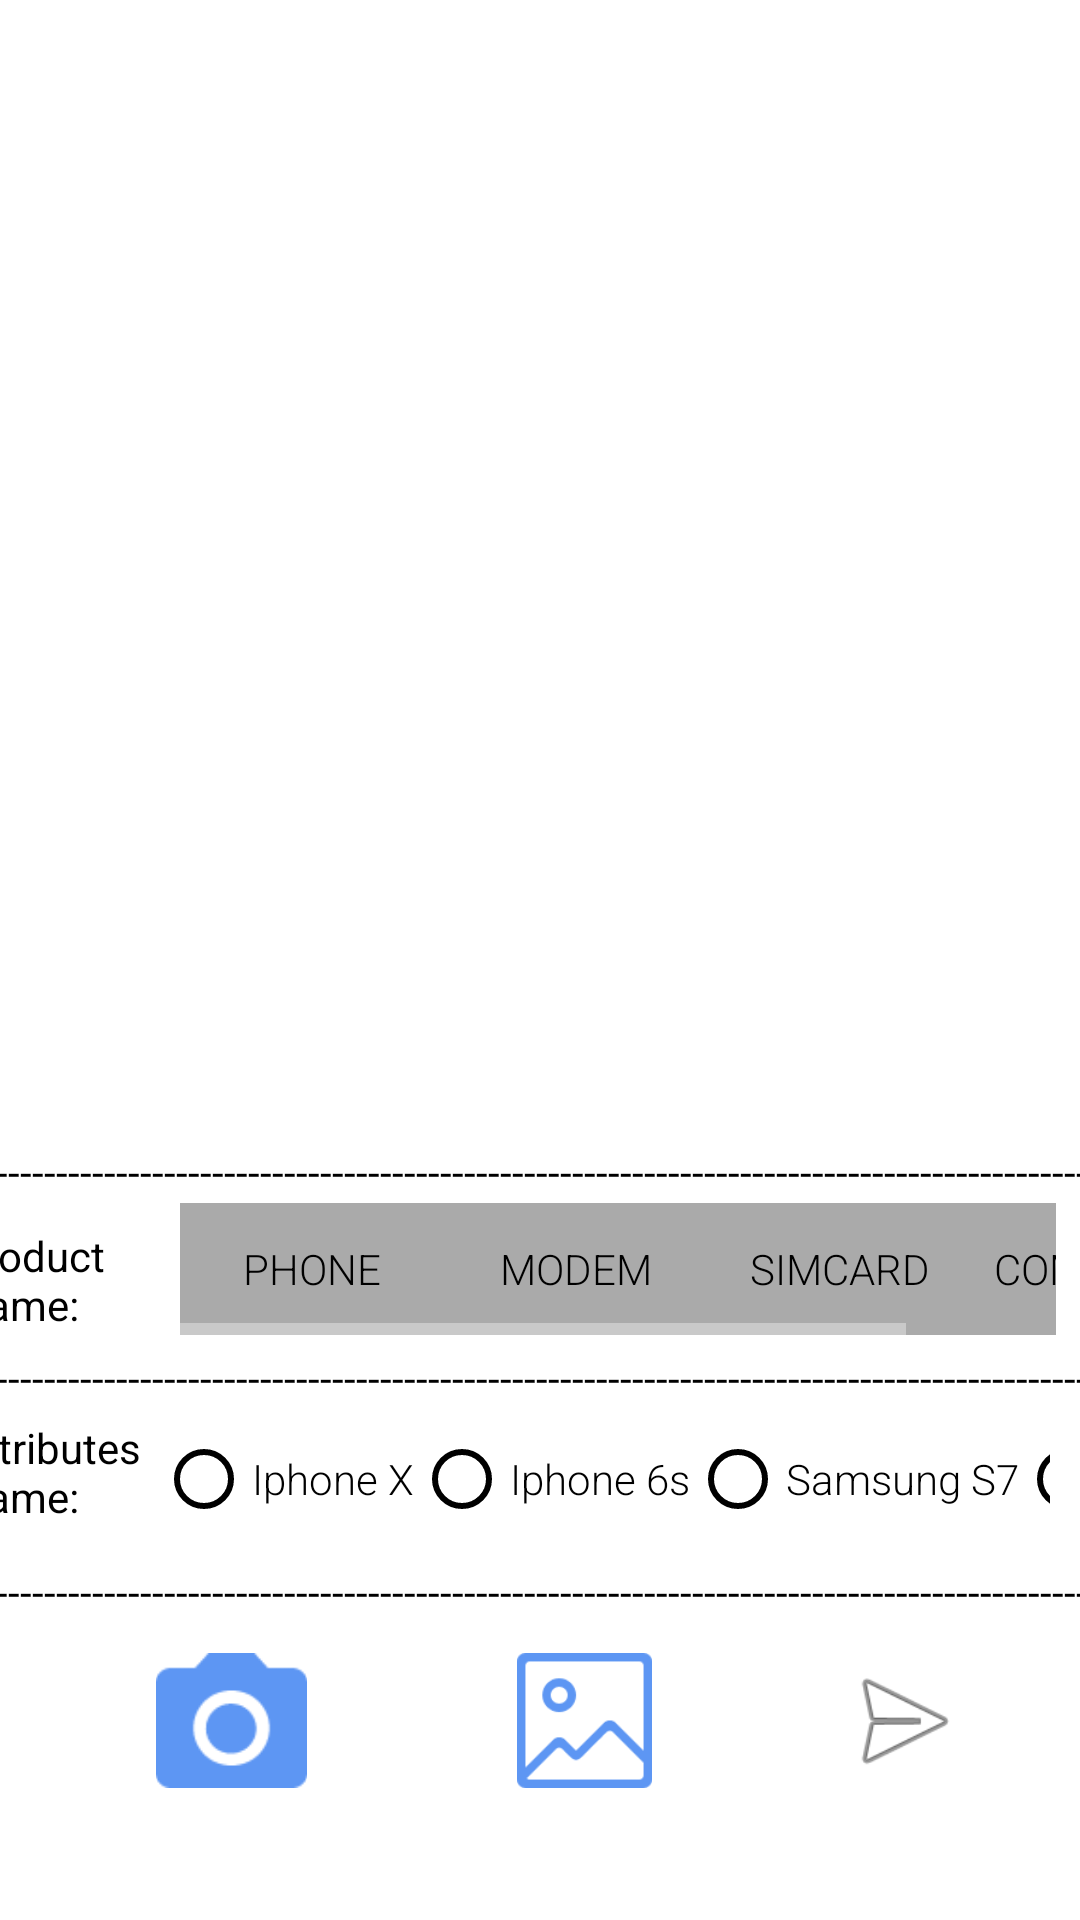

Icons on this 1080w x 1920h Android screen, each with its box as detection(x1, y1, x2, y2):
camera: detection(156, 1653, 307, 1788)
pick: detection(517, 1653, 652, 1788)
send: detection(862, 1678, 948, 1764)
